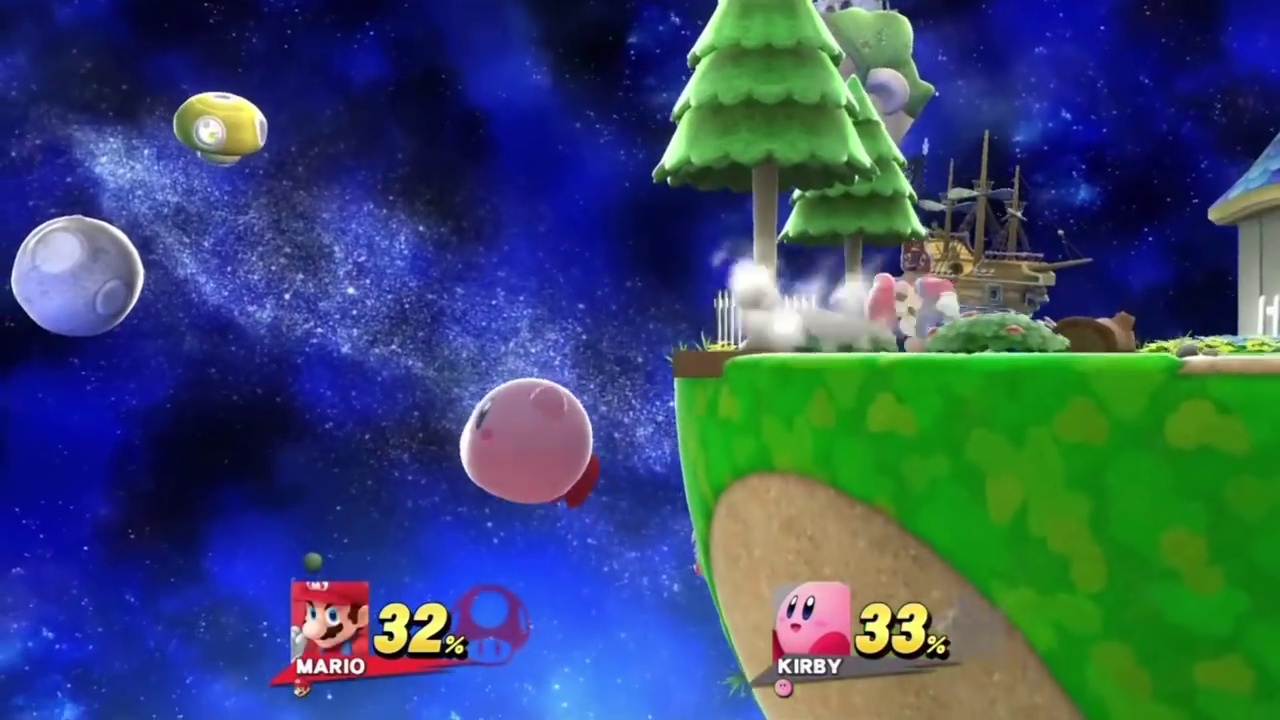Mario: (867, 272, 962, 350)
